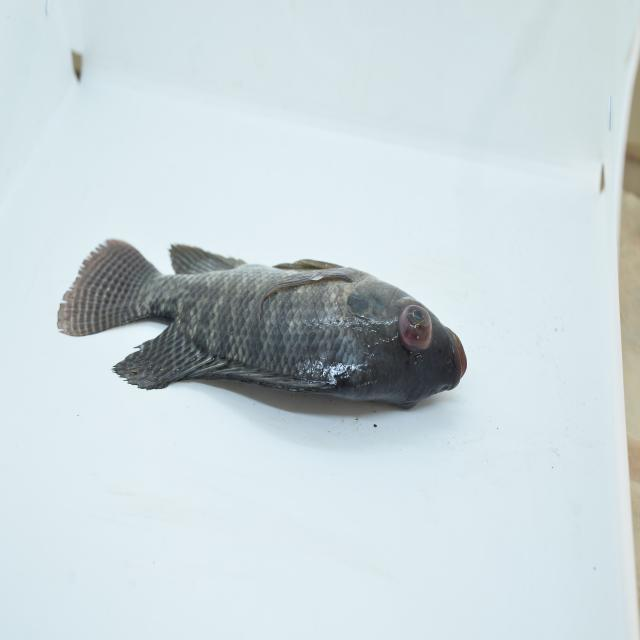streptococcus Disease: (60, 208, 469, 428)
